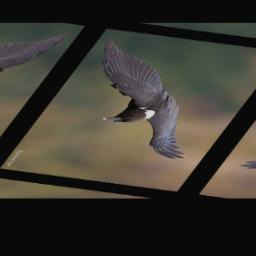Crow: (27, 37, 256, 161)
